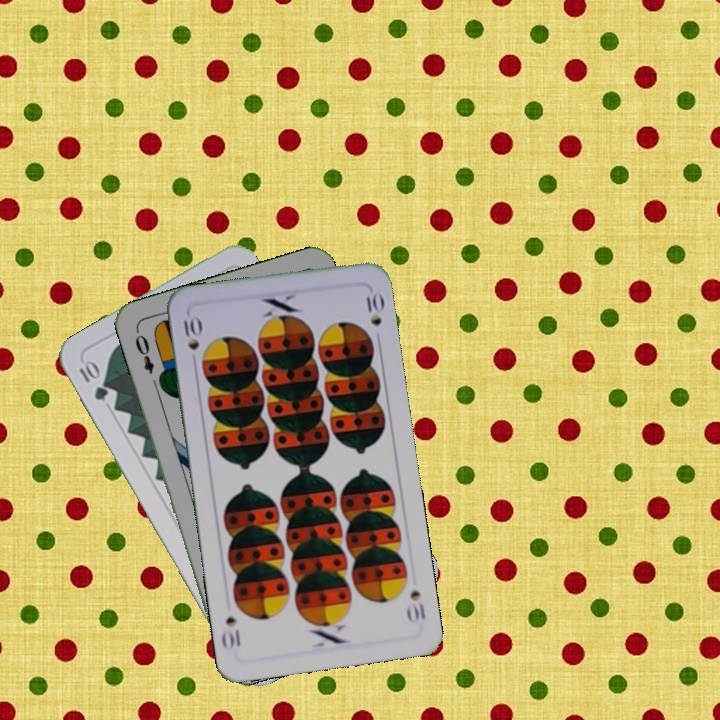EO: (131, 330, 157, 377)
G10: (75, 356, 111, 404)
S10: (179, 310, 204, 353), (403, 585, 428, 626)
